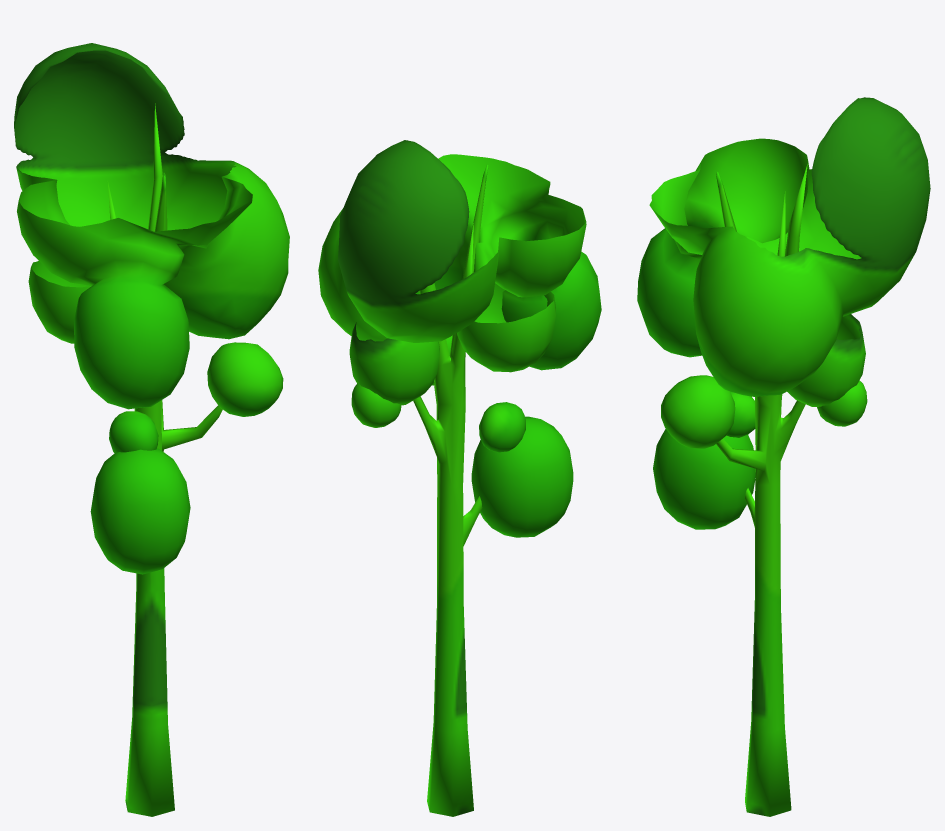
File: Tree_03.FBX
The picture shows the model from 3 angles, left to right: view 1: azimuth 30°, elevation 25°; view 2: azimuth 150°, elevation 25°; view 3: azimuth 270°, elevation 25°; orthographic projection. The views are drawn at different scales.
Visible parts, largest first — view 1: Tree_03; view 2: Tree_03; view 3: Tree_03.
Part boxes in pixels (box(x1,y1,x2,y2)): Tree_03: box(14, 43, 289, 816); Tree_03: box(318, 140, 601, 816); Tree_03: box(637, 97, 930, 816).
Size of the model in its own units: 101 by 106 by 301.
